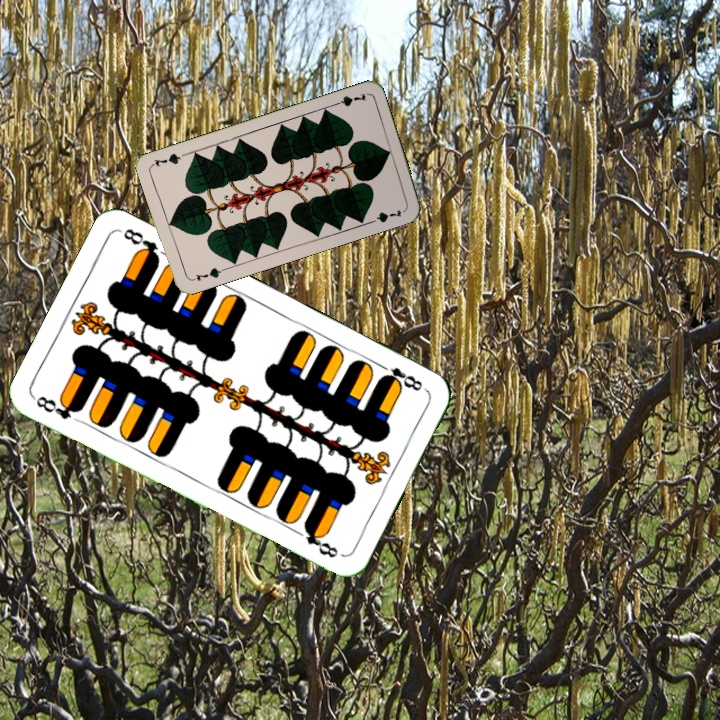E8: (374, 359, 429, 394), (30, 392, 85, 422)
G7: (187, 263, 227, 284), (329, 89, 369, 109)
